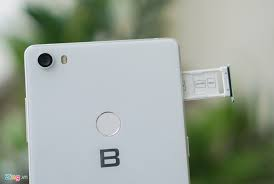bphone: (18, 35, 197, 184)
